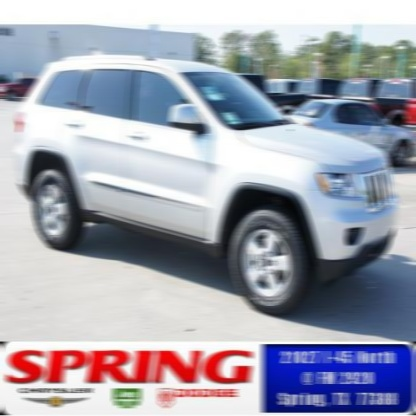Vehicle: (16, 54, 398, 314)
